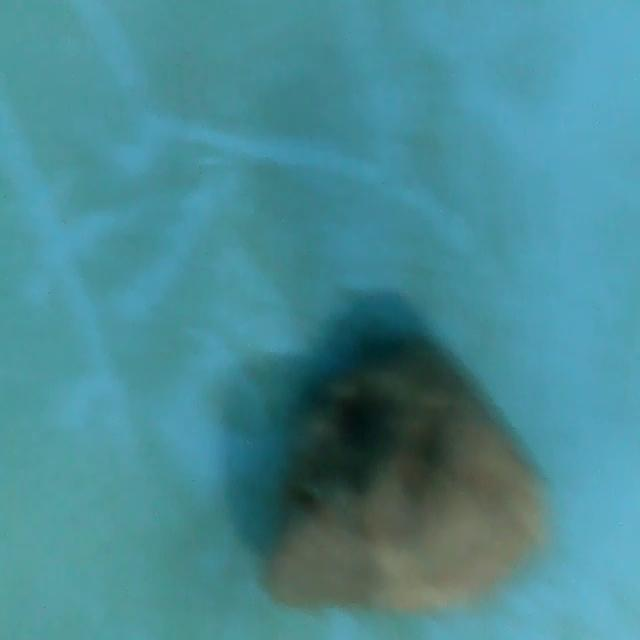rock: (247, 329, 560, 630)
